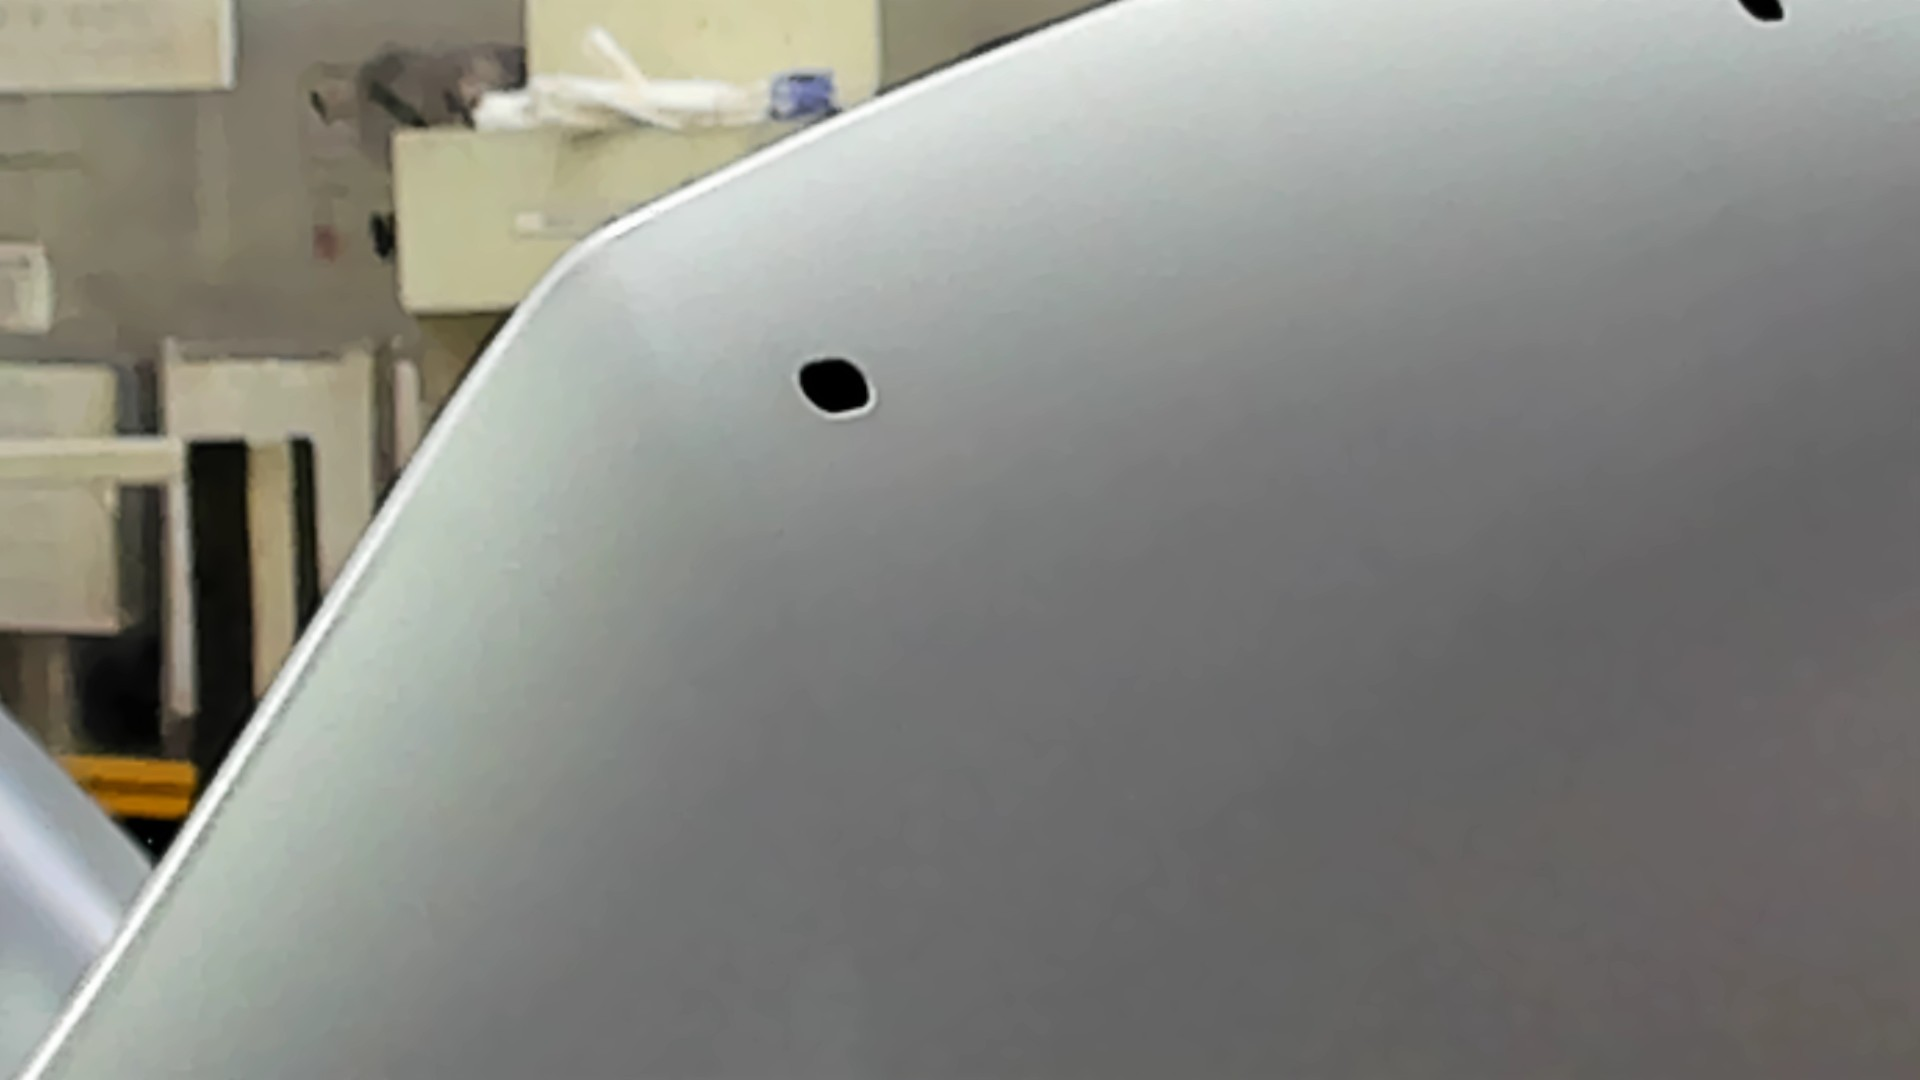amorfo: (793, 353, 884, 418), (1731, 1, 1792, 33)
